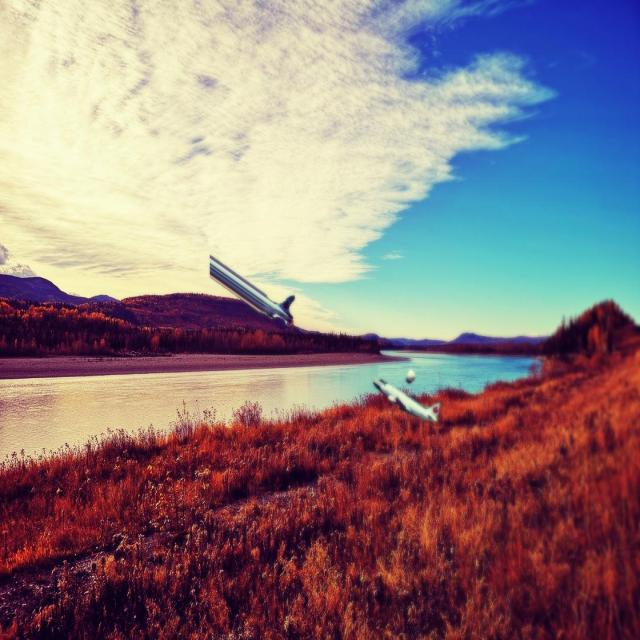airplane: (209, 254, 295, 328), (372, 378, 441, 423)
